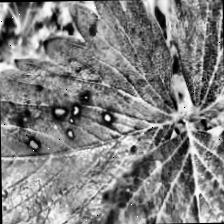Leaf Spot: (0, 0, 182, 224), (85, 128, 224, 224), (167, 0, 224, 172)
